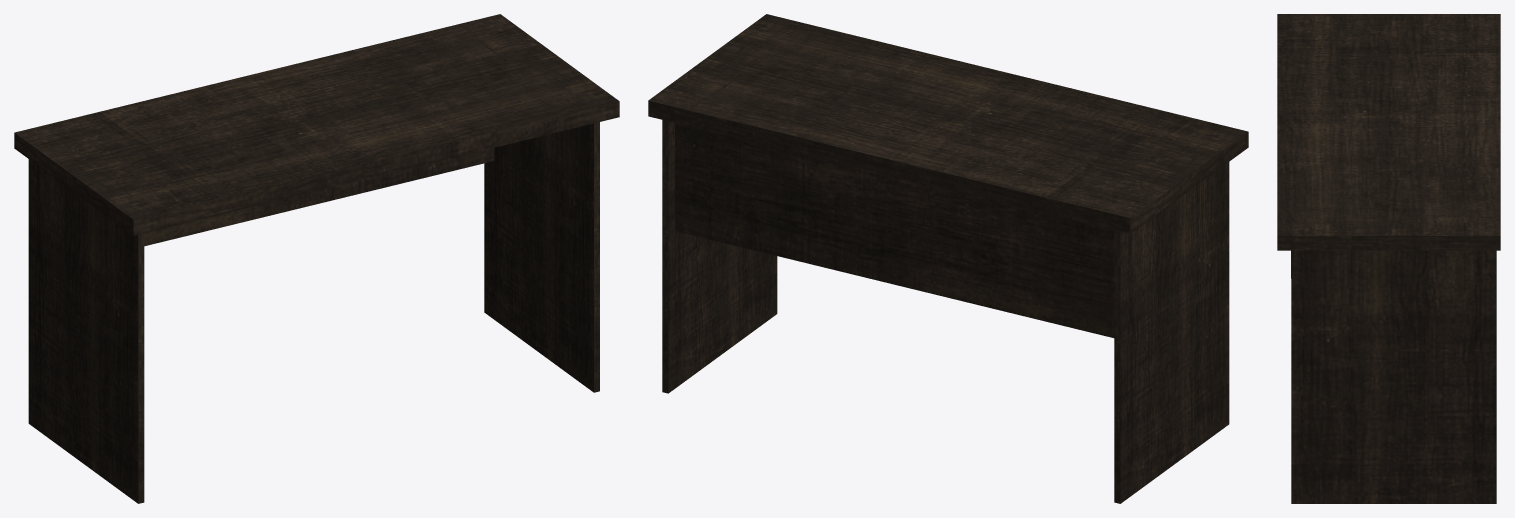
Rendered from table_large_3_2.obj.
3 renders of one model, left to right at view 1: azimuth 30°, elevation 25°; view 2: azimuth 150°, elevation 25°; view 3: azimuth 270°, elevation 25°, orthographic. The views are drawn at different scales.
Parts seen in each view (by area): view 1: table_large_3_2; view 2: table_large_3_2; view 3: table_large_3_2.
Part boxes in pixels (x1,y1,x2,y2): table_large_3_2: (14, 14, 619, 503); table_large_3_2: (648, 14, 1248, 503); table_large_3_2: (1277, 14, 1500, 503).
Size of the model in its own units: 1.6 by 0.92 by 0.68.
